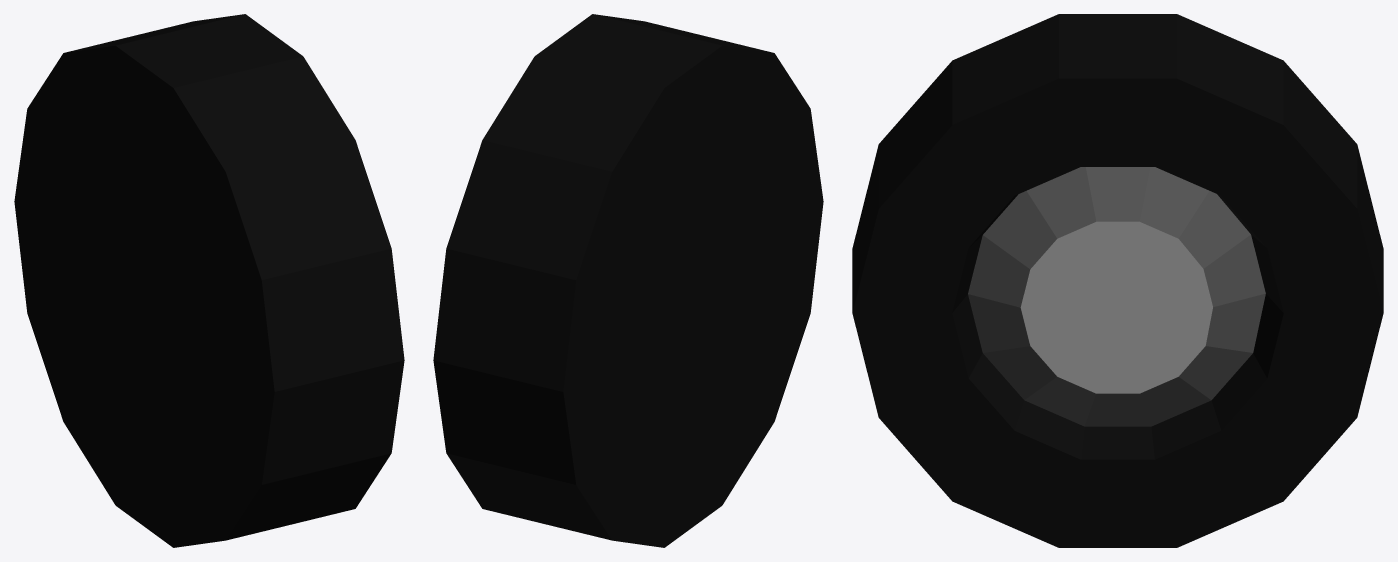
The model's file is WheelDefaultFrontLeft.fbx.
3 views of the same model, side by side, from view 1: azimuth 30°, elevation 25°; view 2: azimuth 150°, elevation 25°; view 3: azimuth 270°, elevation 25° (orthographic). The views are drawn at different scales.
Visible parts, largest first — view 1: WheelDefaultFrontLeft; view 2: WheelDefaultFrontLeft; view 3: WheelDefaultFrontLeft.
Part boxes in pixels (<box>): WheelDefaultFrontLeft: <box>14,14,404,547</box>; WheelDefaultFrontLeft: <box>433,14,823,547</box>; WheelDefaultFrontLeft: <box>852,14,1383,547</box>.
Size of the model in its own units: 0.1477 by 0.4996 by 0.5124.
